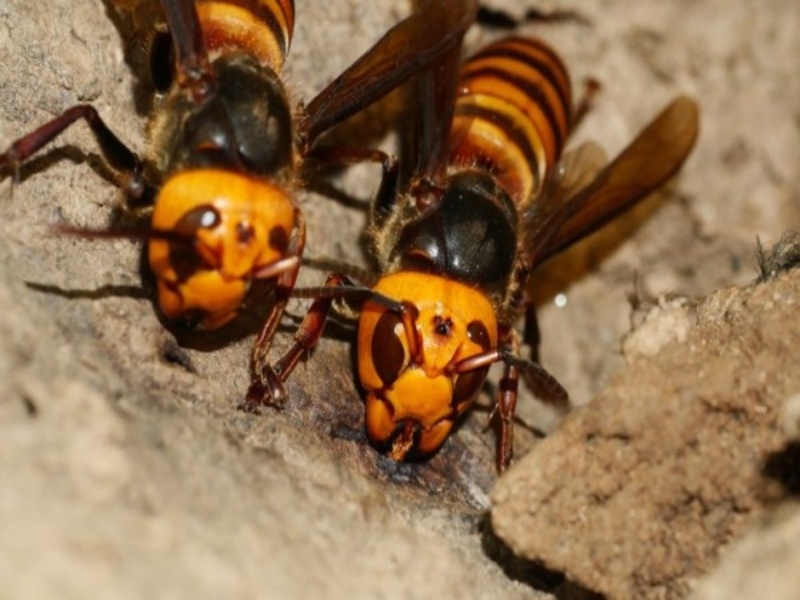asian_giant_hornet: (351, 33, 603, 471), (104, 2, 309, 344)
